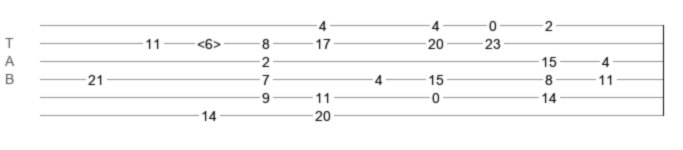0: (432, 90, 440, 100), (489, 18, 497, 28)
11: (145, 36, 161, 46), (315, 90, 331, 100), (598, 72, 614, 82)
14: (201, 108, 217, 118), (541, 90, 557, 100)
15: (428, 72, 444, 82), (541, 54, 557, 64)
17: (315, 36, 331, 46)
2: (262, 54, 270, 64), (545, 18, 553, 28)
20: (315, 108, 331, 118), (428, 36, 444, 46)
21: (88, 72, 104, 82)
23: (485, 36, 501, 46)
4: (319, 18, 327, 28), (375, 72, 383, 82), (432, 18, 440, 28), (602, 54, 610, 64)
7: (262, 72, 270, 82)
8: (262, 36, 270, 46), (545, 72, 553, 82)
9: (262, 90, 270, 100)
harmonic: (197, 36, 221, 46)
